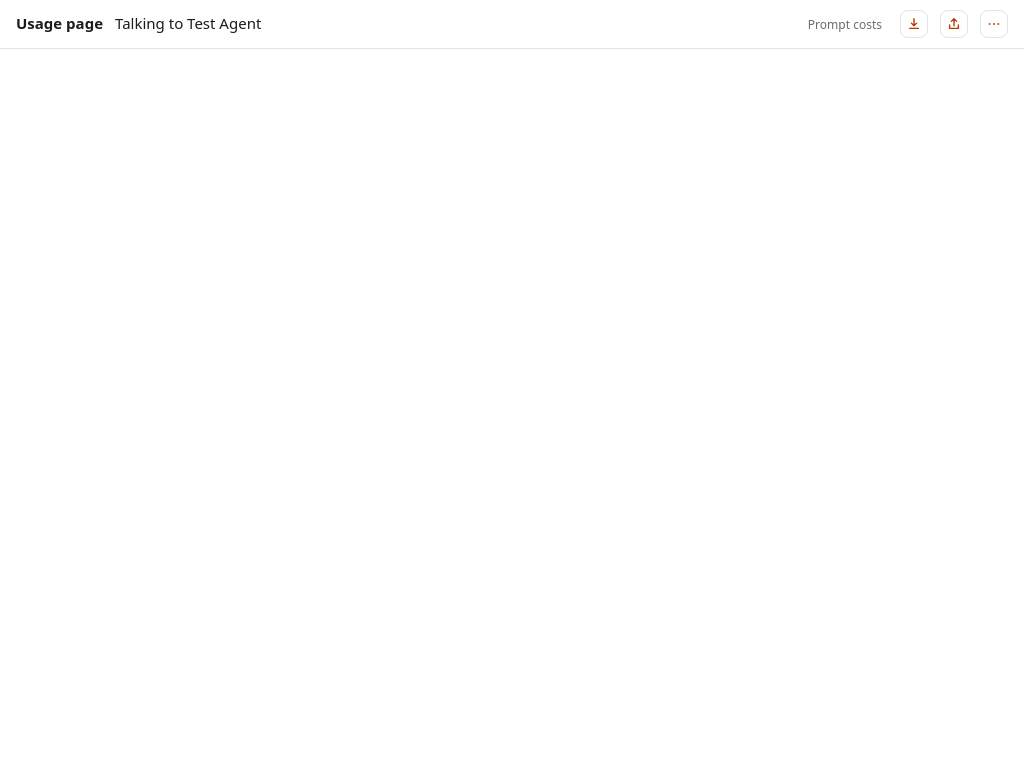
Scenario: ChatHeader › the context panel › opens per-agent prompt costs when routing did not report an answering-agent window
Click the button with class "context" at (845, 25), box [802,14,888,36]
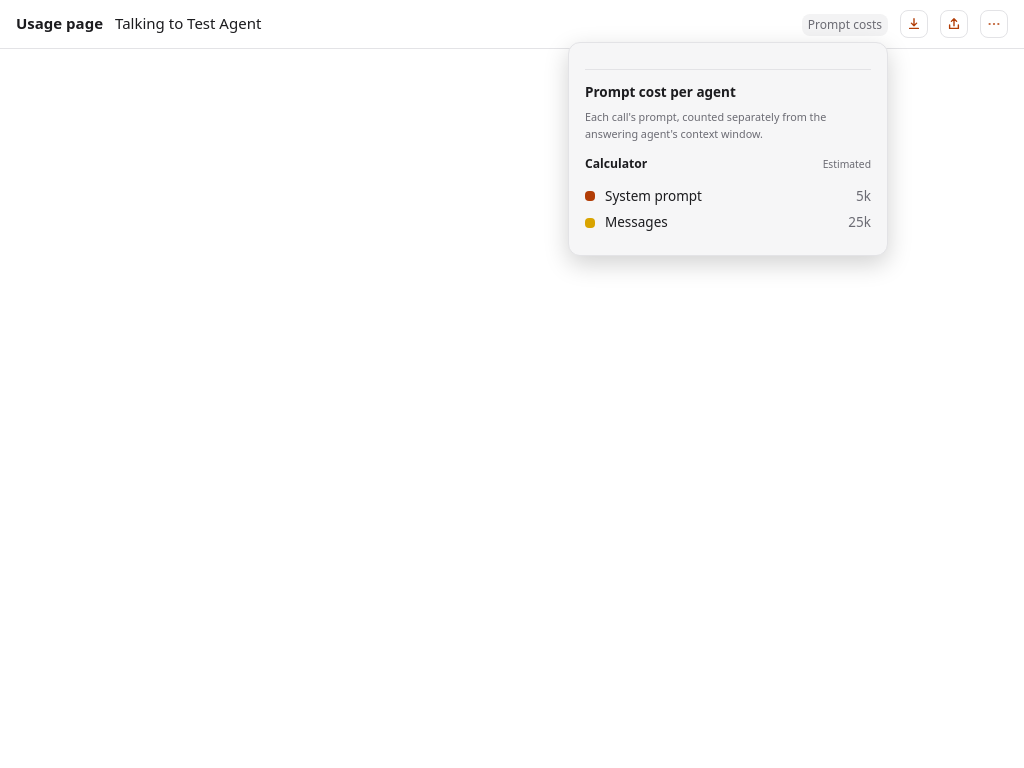
Result: the dialog with test id "context-panel" shows "Calculator" at [585,155,647,172]
